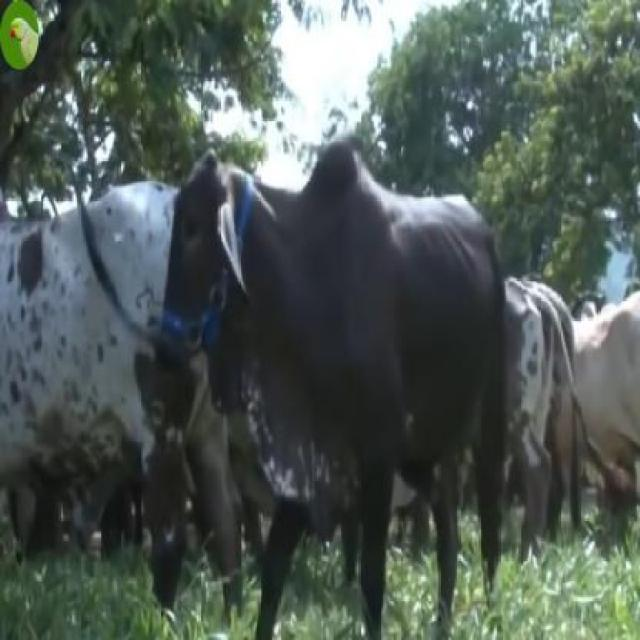Cow: (157, 140, 505, 638)
